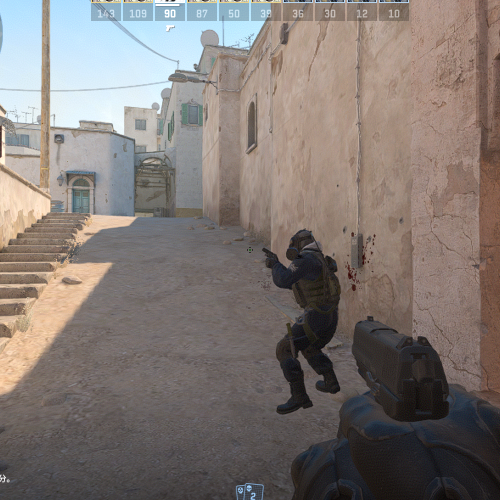ct_body: (262, 228, 341, 415)
ct_head: (286, 229, 317, 261)
